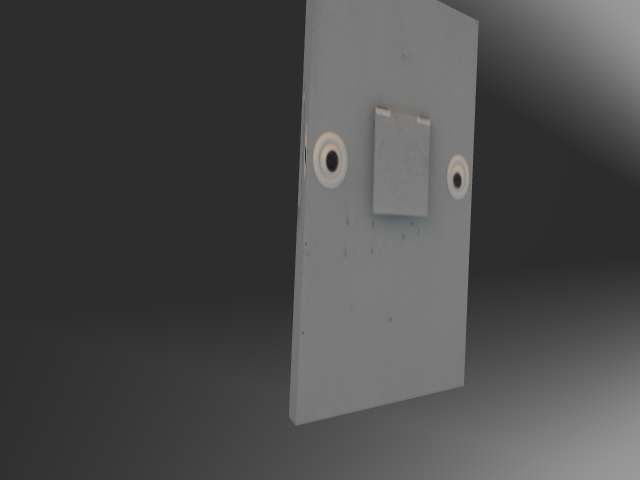facade: (309, 103, 472, 223)
